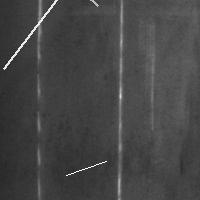scratches: (0, 0, 61, 74), (113, 1, 127, 198), (33, 1, 45, 198), (61, 156, 111, 180), (23, 0, 103, 11)
